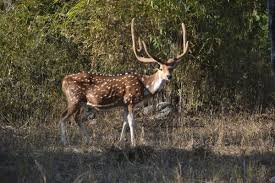Deer: (57, 17, 190, 153)
